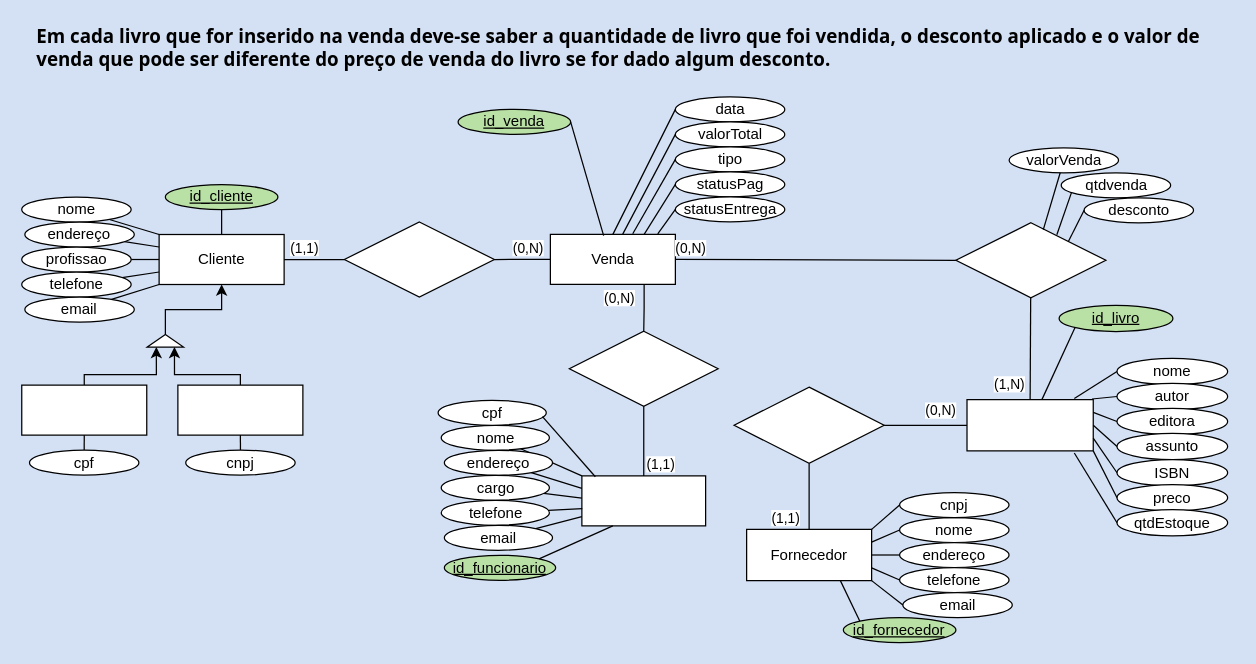
Some shapes in this 1256 by 664 pixel diagram are drawn without their labels. The box of each missing label's shape, as (x1, y1, x2, y2) in pixels:
Contêm: (955, 222, 1106, 298)
Fornece: (733, 386, 884, 463)
Fucionário: (581, 475, 706, 526)
Livro: (966, 398, 1093, 451)
Pessoa Física: (20, 384, 147, 435)
Pessoa Jurídica: (177, 384, 303, 435)
Realiza: (568, 330, 718, 406)
Solicita: (343, 221, 494, 297)
